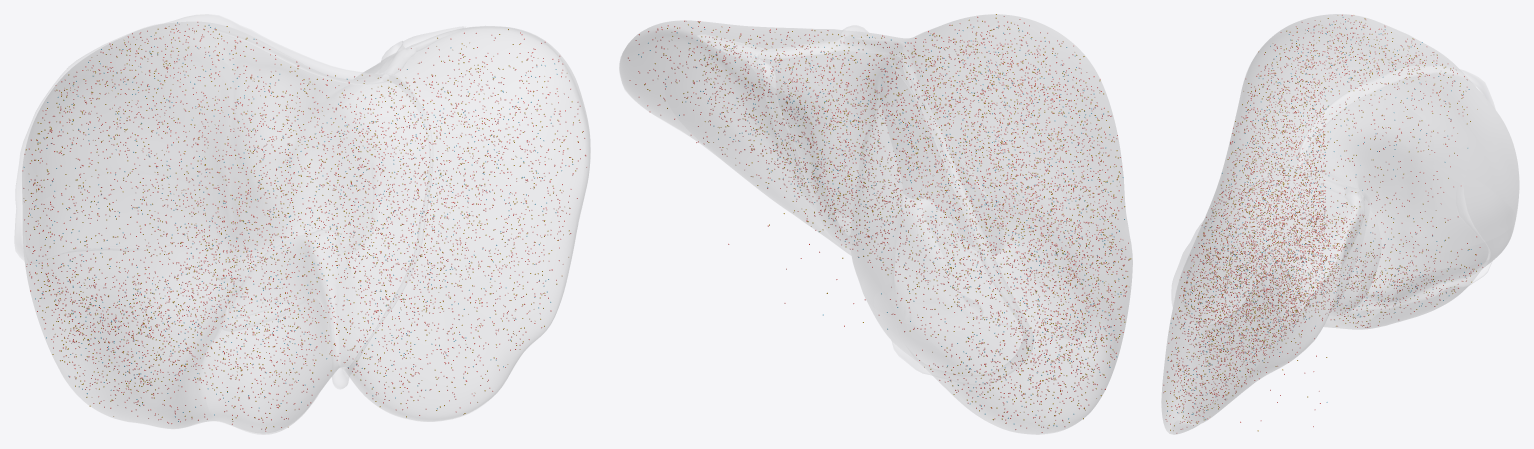
Rendered from 3d-vh-f-liver-UBERON_0002107-all-as-celltypist-sphere-hra-pop.glb.
3 renders of one model, left to right at view 1: azimuth 30°, elevation 25°; view 2: azimuth 150°, elevation 25°; view 3: azimuth 270°, elevation 25°, orthographic. The views are drawn at different scales.
Parts seen in each view (by area): view 1: VH_F_capsule_of_the_liver, VH_F_left_anterolateral_segment, VH_F_left_superomedial_segment, VH_F_right_anteroinferior_segment, VH_F_right_posterosuperior_segment, VH_F_coronary_ligament_of_liver, VH_F_falciform_ligament, VH_F_right_posteroinferior_segment; view 2: VH_F_capsule_of_the_liver, VH_F_left_superomedial_segment, VH_F_bare_area_of_liver, VH_F_right_anterosuperior_segment, VH_F_coronary_ligament_of_liver, VH_F_right_anteroinferior_segment, VH_F_right_posteroinferior_segment, VH_F_ligamentum_venosum, VH_F_right_posterosuperior_segment, VH_F_triangular_ligament_of_liver; view 3: VH_F_capsule_of_the_liver, VH_F_right_posterosuperior_segment, VH_F_right_anterosuperior_segment, VH_F_bare_area_of_liver, VH_F_left_anterolateral_segment, VH_F_coronary_ligament_of_liver, VH_F_right_posteroinferior_segment, VH_F_left_superomedial_segment, VH_F_falciform_ligament, VH_F_caudate_lobe, VH_F_ligamentum_venosum, VH_F_left_superomedial_segment1.
Boxes of the visible parts, x1=… form: VH_F_capsule_of_the_liver: x1=22, y1=22, x2=589, y2=434; VH_F_left_anterolateral_segment: x1=346, y1=228, x2=576, y2=420; VH_F_left_superomedial_segment: x1=389, y1=27, x2=589, y2=224; VH_F_right_anteroinferior_segment: x1=72, y1=303, x2=223, y2=427; VH_F_right_posterosuperior_segment: x1=22, y1=28, x2=147, y2=220; VH_F_coronary_ligament_of_liver: x1=15, y1=14, x2=409, y2=259; VH_F_falciform_ligament: x1=348, y1=74, x2=432, y2=372; VH_F_right_posteroinferior_segment: x1=23, y1=234, x2=56, y2=363; VH_F_capsule_of_the_liver: x1=620, y1=15, x2=1132, y2=434; VH_F_left_superomedial_segment: x1=620, y1=21, x2=841, y2=140; VH_F_bare_area_of_liver: x1=850, y1=92, x2=902, y2=348; VH_F_right_anterosuperior_segment: x1=957, y1=15, x2=1129, y2=237; VH_F_coronary_ligament_of_liver: x1=768, y1=37, x2=1033, y2=384; VH_F_right_anteroinferior_segment: x1=1061, y1=250, x2=1132, y2=429; VH_F_right_posteroinferior_segment: x1=868, y1=303, x2=1041, y2=433; VH_F_ligamentum_venosum: x1=751, y1=57, x2=815, y2=211; VH_F_right_posterosuperior_segment: x1=851, y1=173, x2=866, y2=284; VH_F_triangular_ligament_of_liver: x1=698, y1=34, x2=766, y2=63; VH_F_capsule_of_the_liver: x1=1162, y1=14, x2=1457, y2=434; VH_F_right_posterosuperior_segment: x1=1392, y1=29, x2=1518, y2=213; VH_F_right_anterosuperior_segment: x1=1248, y1=14, x2=1391, y2=108; VH_F_bare_area_of_liver: x1=1346, y1=92, x2=1518, y2=264; VH_F_left_anterolateral_segment: x1=1162, y1=303, x2=1250, y2=433; VH_F_coronary_ligament_of_liver: x1=1298, y1=65, x2=1494, y2=311; VH_F_right_posteroinferior_segment: x1=1421, y1=225, x2=1513, y2=314; VH_F_left_superomedial_segment: x1=1257, y1=204, x2=1363, y2=379; VH_F_falciform_ligament: x1=1172, y1=163, x2=1297, y2=305; VH_F_caudate_lobe: x1=1338, y1=207, x2=1380, y2=305; VH_F_ligamentum_venosum: x1=1332, y1=189, x2=1369, y2=308; VH_F_left_superomedial_segment1: x1=1206, y1=111, x2=1237, y2=215.
Size of the model in its own units: 0.2471 by 0.17 by 0.1663.
